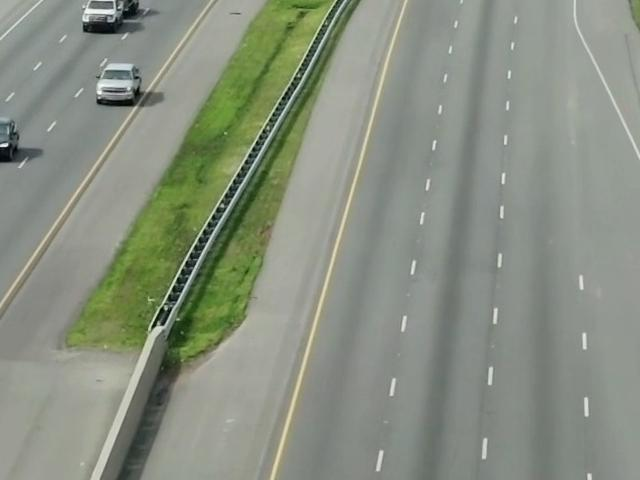car: (98, 58, 144, 106), (82, 0, 144, 34), (0, 112, 22, 166)
